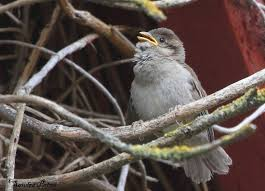hsparrow: (130, 25, 235, 183)
